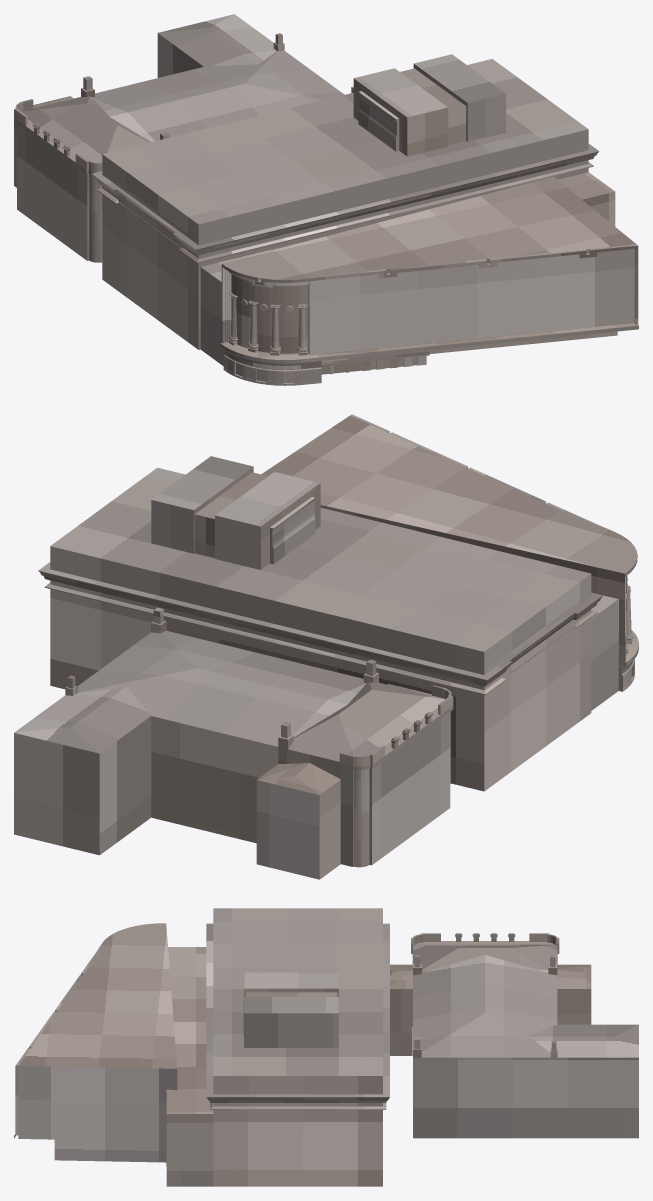
The picture shows the model from 3 angles, top to bottom: view 1: azimuth 30°, elevation 25°; view 2: azimuth 150°, elevation 25°; view 3: azimuth 270°, elevation 25°; orthographic projection. The views are drawn at different scales.
Visible parts, largest first — view 1: Untitled; view 2: Untitled; view 3: Untitled.
Boxes of the visible parts, <box> form: Untitled: <box>14,14,638,385</box>; Untitled: <box>14,414,638,879</box>; Untitled: <box>14,908,638,1186</box>.
Bounding box in the file's own units: 31.96 × 12.45 × 48.59.
1 material, 1 textured.
